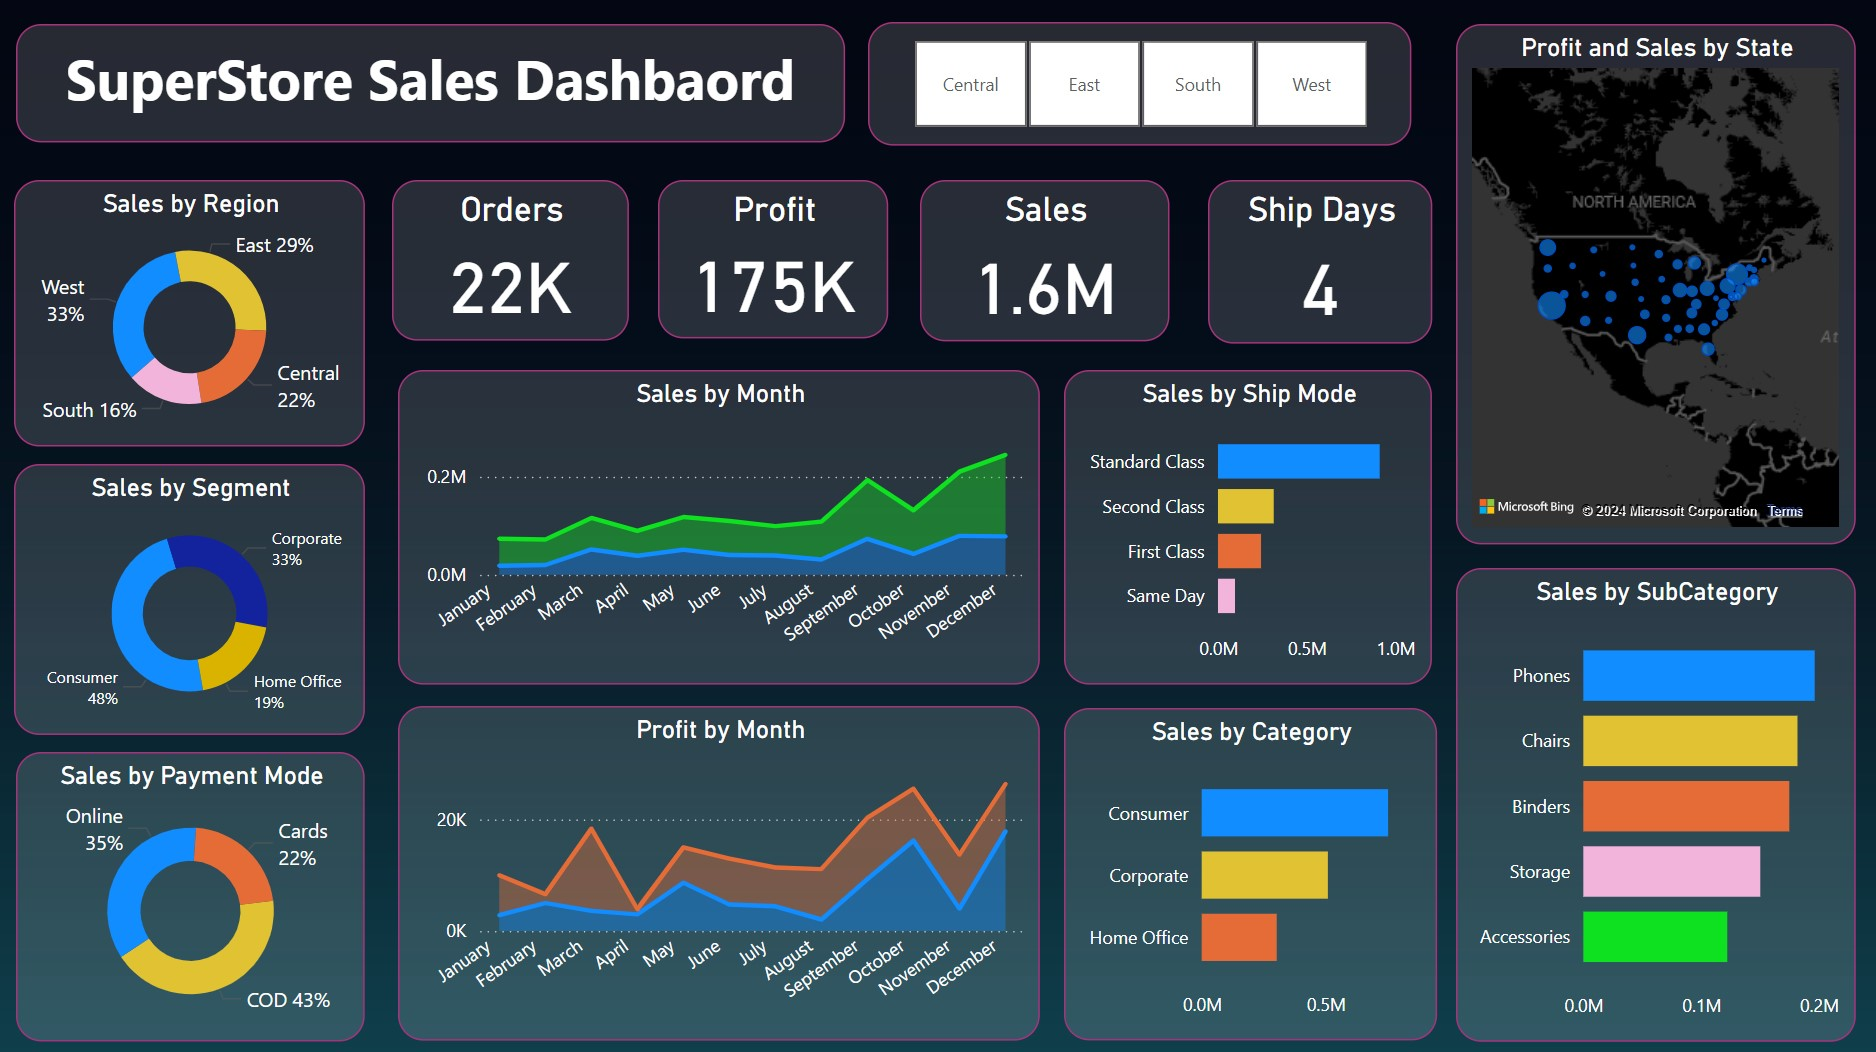

This screenshot's page, from the dashboard's own definition file:
{"tool":"powerbi","page":{"name":"Page 1","canvas":[1280,720],"ordinal":0},"visuals":[{"type":"donutChart","title":"Sales by Payment Mode","fields":{"Category":["SuperStore_Sales_Dataset.Payment Mode"],"Y":["Sum(SuperStore_Sales_Dataset.Sales)"]},"box":[18.6,510,235.7,195.7],"z":0},{"type":"barChart","title":"Sales by Ship Mode","fields":{"Category":["SuperStore_Sales_Dataset.Ship Mode"],"Y":["Sum(SuperStore_Sales_Dataset.Sales)"]},"box":[726.4,253.3,248.7,212.3],"z":1000},{"type":"card","title":"Orders","fields":{"Values":["Sum(SuperStore_Sales_Dataset.Quantity)"]},"box":[272.9,124.3,160,108.6],"z":2000},{"type":"map","title":"Profit and Sales by State","fields":{"Category":["SuperStore_Sales_Dataset.State"],"Size":["Sum(SuperStore_Sales_Dataset.Sales)"]},"box":[991.4,18.6,270,351.4],"z":3000},{"type":"donutChart","title":"Sales by Region","fields":{"Category":["SuperStore_Sales_Dataset.Region"],"Y":["Sum(SuperStore_Sales_Dataset.Sales)"]},"box":[17.1,124.3,237.1,180],"z":4000},{"type":"donutChart","title":"Sales by Segment","fields":{"Category":["SuperStore_Sales_Dataset.Segment"],"Y":["Sum(SuperStore_Sales_Dataset.Sales)"]},"box":[17.1,315.7,237.1,182.9],"z":5000},{"type":"card","title":"Profit","fields":{"Values":["Sum(SuperStore_Sales_Dataset.Profit)"]},"box":[452.9,124.3,155.7,107.1],"z":6000},{"type":"card","title":"Sales","fields":{"Values":["Sum(SuperStore_Sales_Dataset.Sales)"]},"box":[629.4,124.4,168.3,109.2],"z":7000},{"type":"card","title":"Ship Days","fields":{"Values":["Avg(SuperStore_Sales_Dataset.Avg Delievery)"]},"box":[823.5,124.4,151.7,110.7],"z":8000},{"type":"textbox","box":[18.6,18.6,560,80],"z":9000},{"type":"slicer","fields":{"Values":["SuperStore_Sales_Dataset.Region"]},"box":[594.5,18.2,367,83.4],"z":10000},{"type":"barChart","title":"Sales by Category","fields":{"Y":["Sum(SuperStore_Sales_Dataset.Sales)"],"Category":["SuperStore_Sales_Dataset.Segment"]},"box":[726.4,480.8,251.8,224.5],"z":11000},{"type":"barChart","title":"Sales by SubCategory","fields":{"Y":["Sum(SuperStore_Sales_Dataset.Sales)"],"Category":["SuperStore_Sales_Dataset.Sub-Category"]},"box":[991.4,385.7,270,320],"z":12000},{"type":"stackedAreaChart","title":"Profit by Month","fields":{"Category":["SuperStore_Sales_Dataset.Order Date.Variation.Date Hierarchy.Month"],"Y":["Sum(SuperStore_Sales_Dataset.Profit)"],"Series":["SuperStore_Sales_Dataset.Order Date.Variation.Date Hierarchy.Year"]},"box":[277.5,479.2,433.7,226],"z":13000},{"type":"stackedAreaChart","title":"Sales by Month","fields":{"Category":["SuperStore_Sales_Dataset.Order Date.Variation.Date Hierarchy.Month"],"Series":["SuperStore_Sales_Dataset.Order Date.Variation.Date Hierarchy.Year"],"Y":["Sum(SuperStore_Sales_Dataset.Sales)"]},"box":[277.5,253.3,433.7,212.3],"z":14000}]}

Visuals, with their boxes in screenshot pixels (x1, y1, x2, y2), scaled from the page's 1280x720 canvas onto the 1876x1052 screenshot:
"Sales by Payment Mode" donutChart: rect(27, 745, 373, 1031)
"Sales by Ship Mode" barChart: rect(1065, 370, 1429, 680)
"Orders" card: rect(400, 182, 634, 340)
"Profit and Sales by State" map: rect(1453, 27, 1849, 541)
"Sales by Region" donutChart: rect(25, 182, 373, 445)
"Sales by Segment" donutChart: rect(25, 461, 373, 729)
"Profit" card: rect(664, 182, 892, 338)
"Sales" card: rect(922, 182, 1169, 341)
"Ship Days" card: rect(1207, 182, 1429, 344)
textbox: rect(27, 27, 848, 144)
slicer - SuperStore_Sales_Dataset.Region: rect(871, 27, 1409, 148)
"Sales by Category" barChart: rect(1065, 703, 1434, 1031)
"Sales by SubCategory" barChart: rect(1453, 564, 1849, 1031)
"Profit by Month" stackedAreaChart: rect(407, 700, 1042, 1030)
"Sales by Month" stackedAreaChart: rect(407, 370, 1042, 680)
